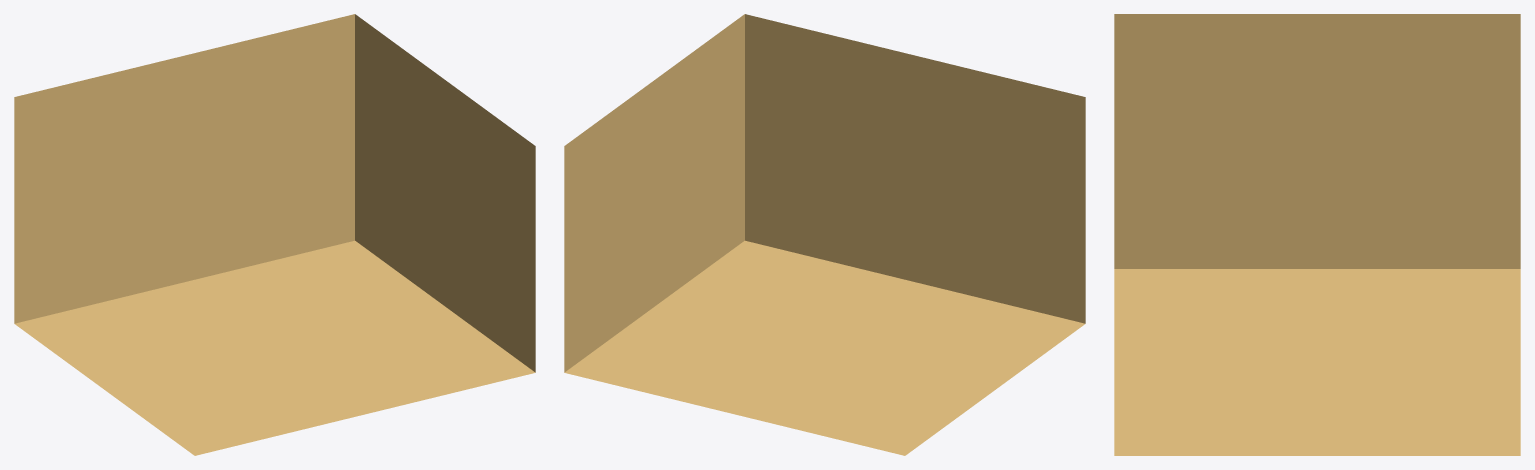
The model's file is production-planning-south-indian-brass-015.glb.
3 views of the same model, side by side, from view 1: azimuth 30°, elevation 25°; view 2: azimuth 150°, elevation 25°; view 3: azimuth 270°, elevation 25° (orthographic). The views are drawn at different scales.
Parts seen in each view (by area): view 1: South Indian Brass Production Planning; view 2: South Indian Brass Production Planning; view 3: South Indian Brass Production Planning.
Boxes of the visible parts, <box> form: South Indian Brass Production Planning: <box>14,14,535,455</box>; South Indian Brass Production Planning: <box>564,14,1085,455</box>; South Indian Brass Production Planning: <box>1114,14,1520,455</box>.
Size of the model in its own units: 1.7 by 1.08 by 1.56.
